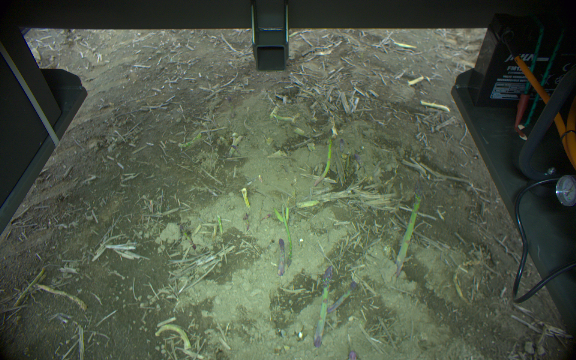aspa: (392, 195, 422, 277), (312, 264, 334, 348), (153, 321, 192, 350), (327, 280, 357, 315), (314, 136, 332, 189), (279, 204, 294, 263), (275, 237, 286, 277), (346, 346, 359, 360)
